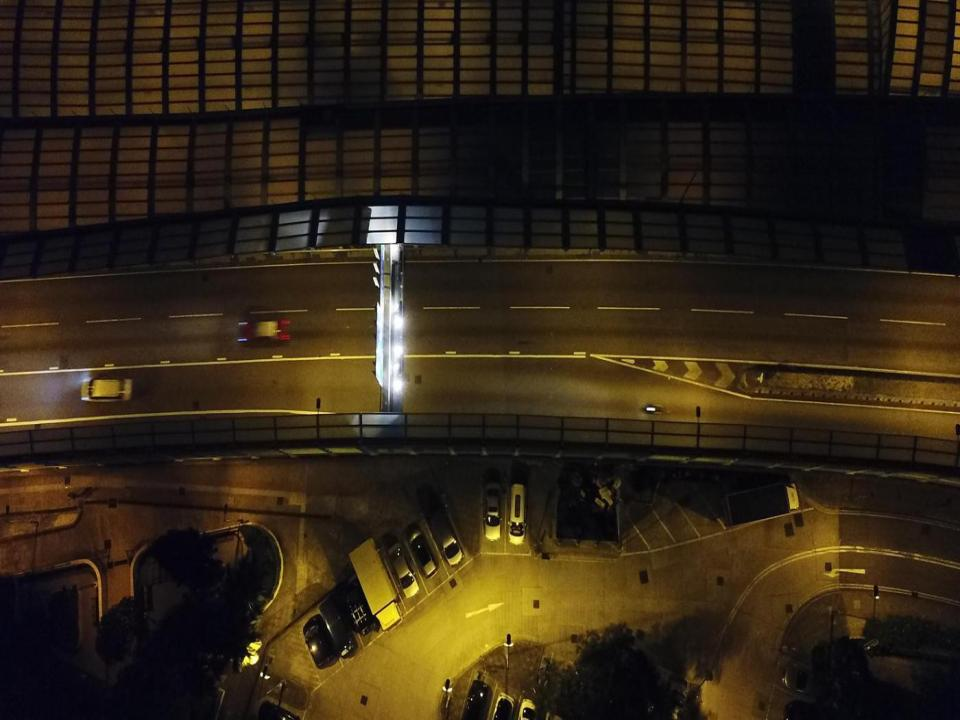bus: (508, 484, 526, 544)
car: (319, 596, 356, 658), (428, 511, 465, 568), (386, 539, 420, 599), (343, 581, 376, 636), (407, 526, 439, 580), (80, 375, 133, 403), (304, 622, 332, 670), (236, 320, 292, 342), (483, 481, 503, 541), (464, 680, 490, 719), (492, 692, 515, 719), (518, 697, 538, 719)
truck: (348, 537, 404, 633)
